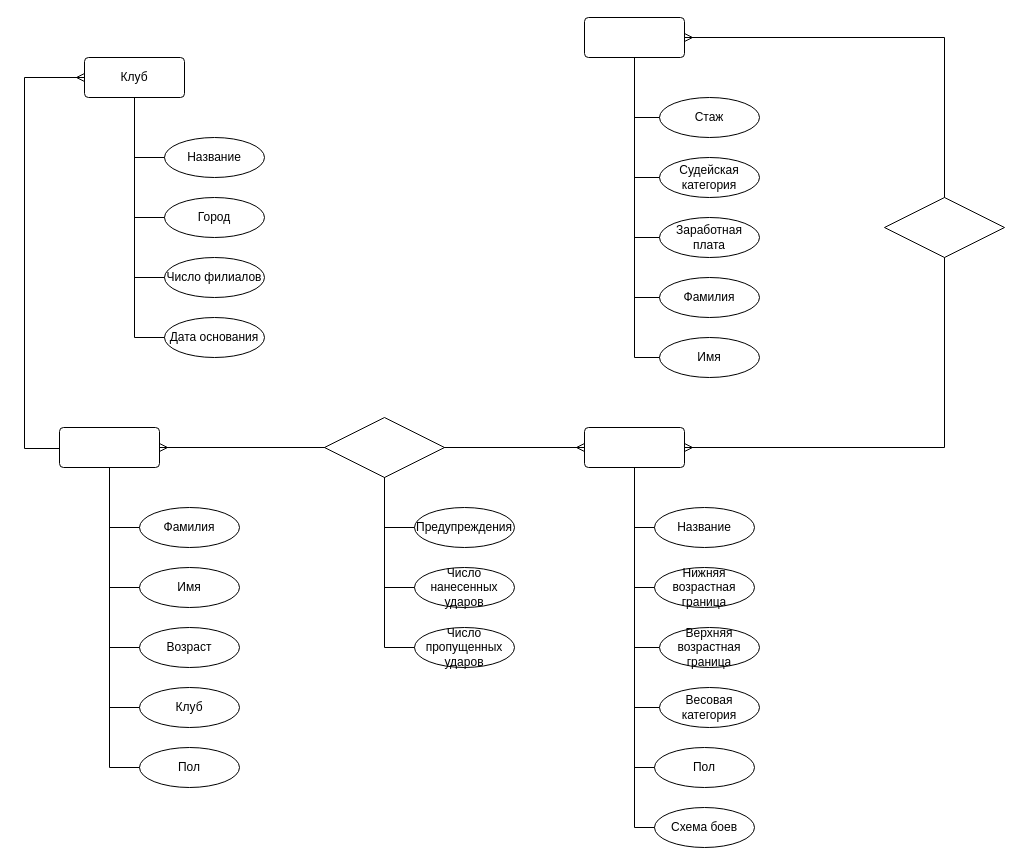
The diagram is 1022 pixels wide and 865 high, and some of its shapes have lost their labels. The shapes that lost their labels are listed below. From the top down, each one's centre as x and y in pixels, then its label:
At [634,37]: "Судья".
At [944,227]: "Судейство".
At [109,447]: "Боец".
At [384,447]: "Турнир".
At [634,447]: "Номинация".
